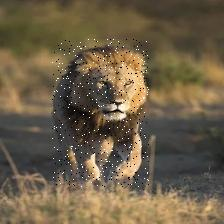Lion: (51, 40, 148, 188)
